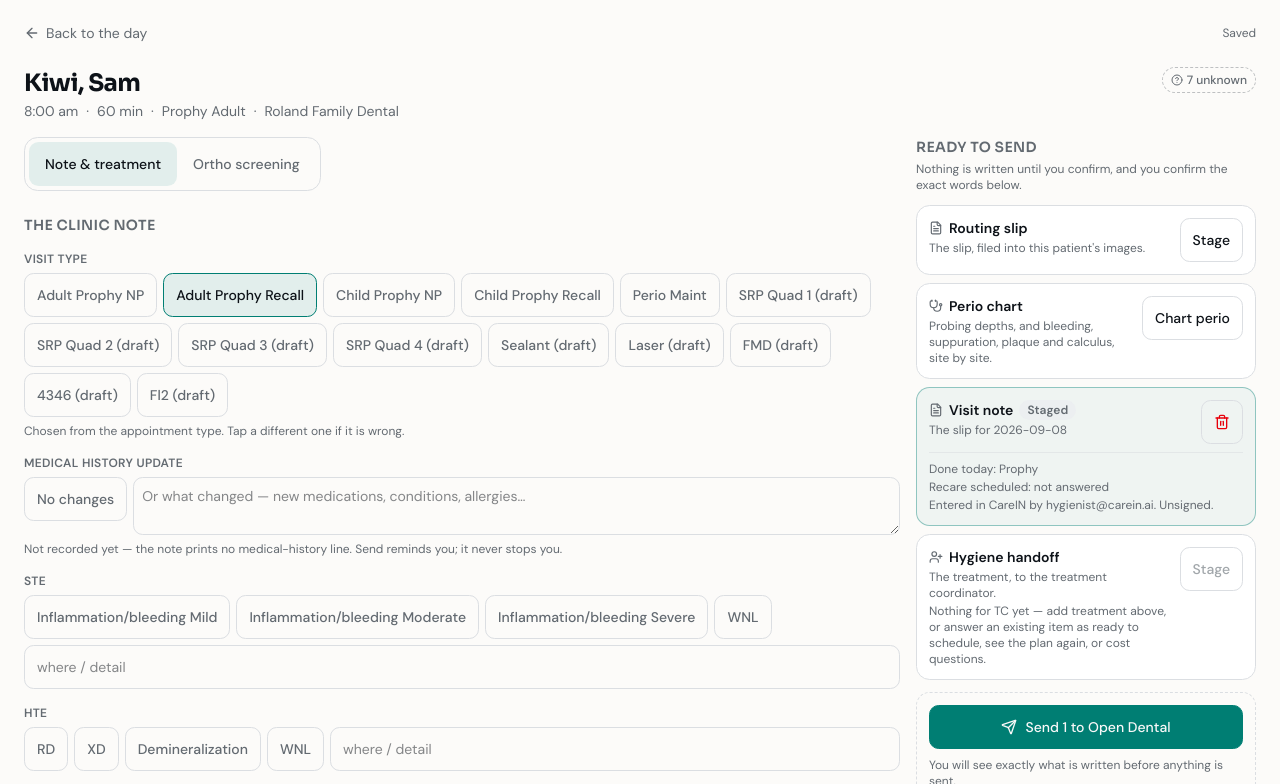
Test: the confirm step › a stale preview stops everything, and says so beside the Send button
What coordinates should you click on to do the following:
click the button with test id "hyg-send-all"
I would click on:
 (1086, 727)
Its box is 929,705 -> 1243,749.
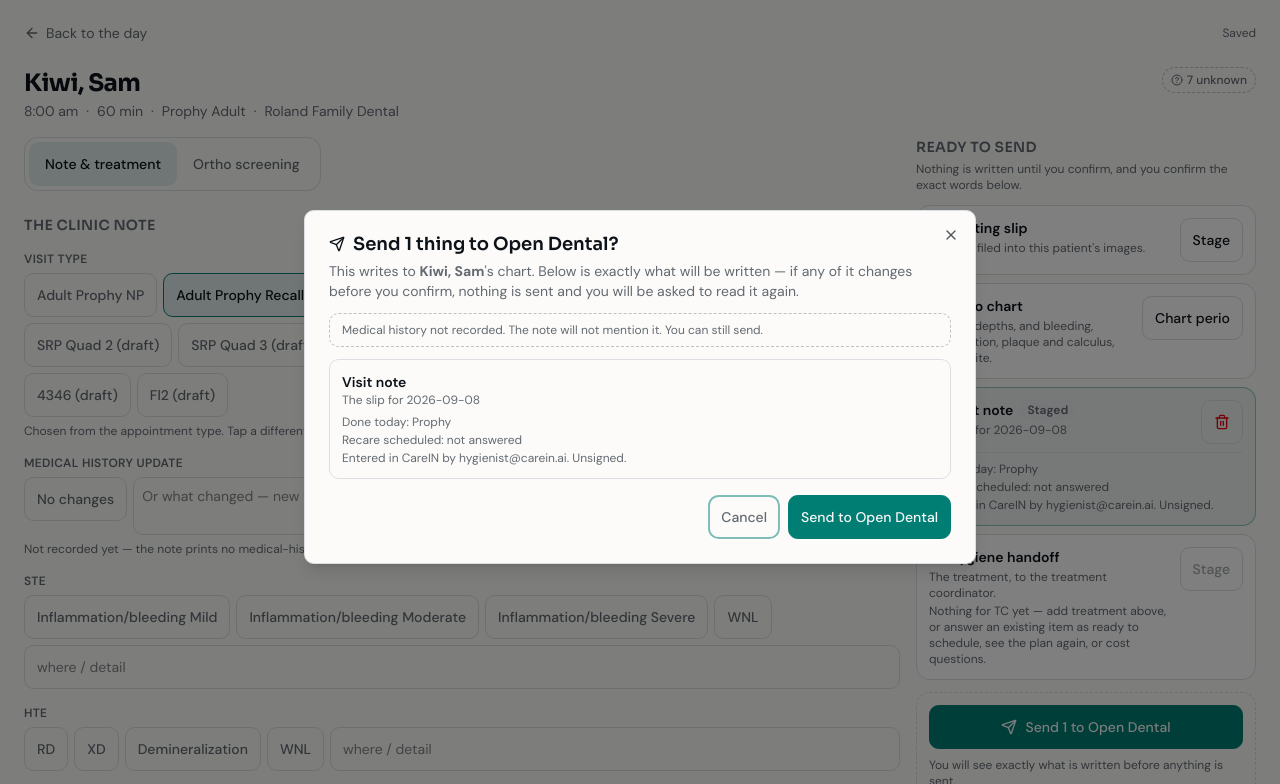
What coordinates should you click on to do the following:
click the button with test id "hyg-confirm-send-accept"
I would click on:
 (870, 517)
Its box is 788,495 -> 951,539.
(page scrolled)
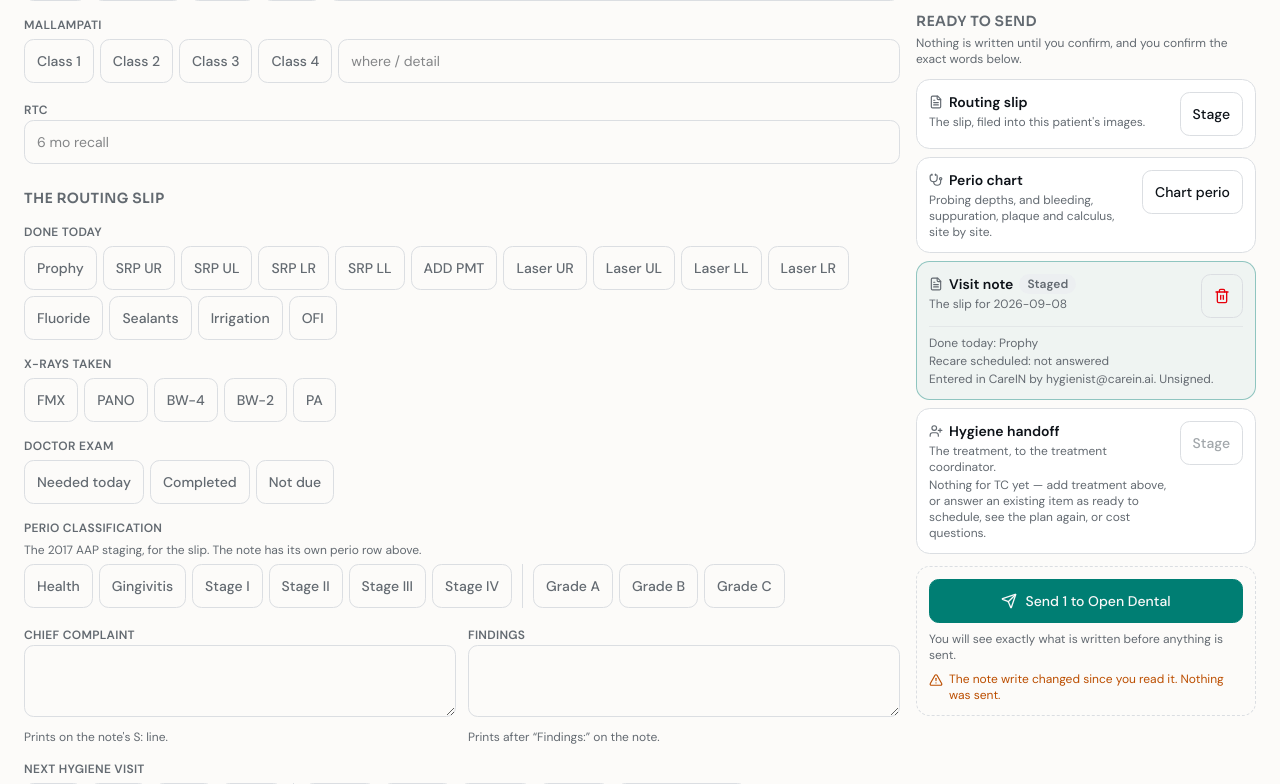
Expected: the element with test id "hyg-send-refused" shows "Nothing was sent", 949,671 -> 1224,703
